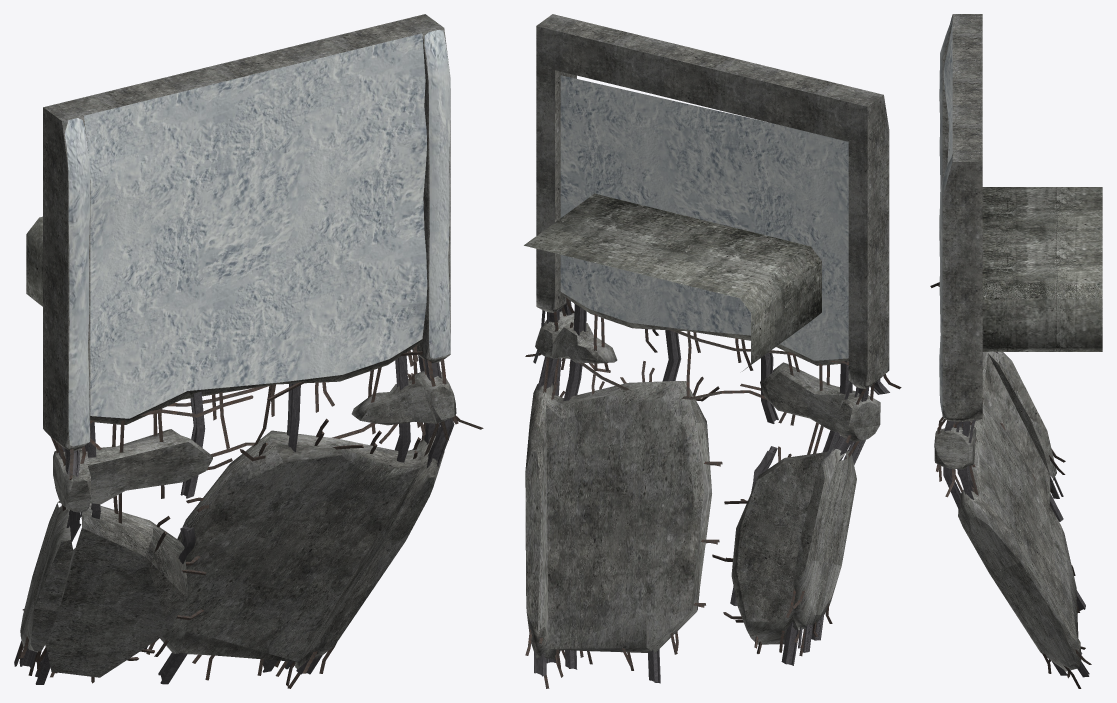
Rendered from gully_bridge_concrete02.glb.
3 views of the same model, side by side, from view 1: azimuth 30°, elevation 25°; view 2: azimuth 150°, elevation 25°; view 3: azimuth 270°, elevation 25° (orthographic). The views are drawn at different scales.
Bounding box in the file's own units: 310 × 491 × 138.
Materials: 6 (6 with a texture image).
